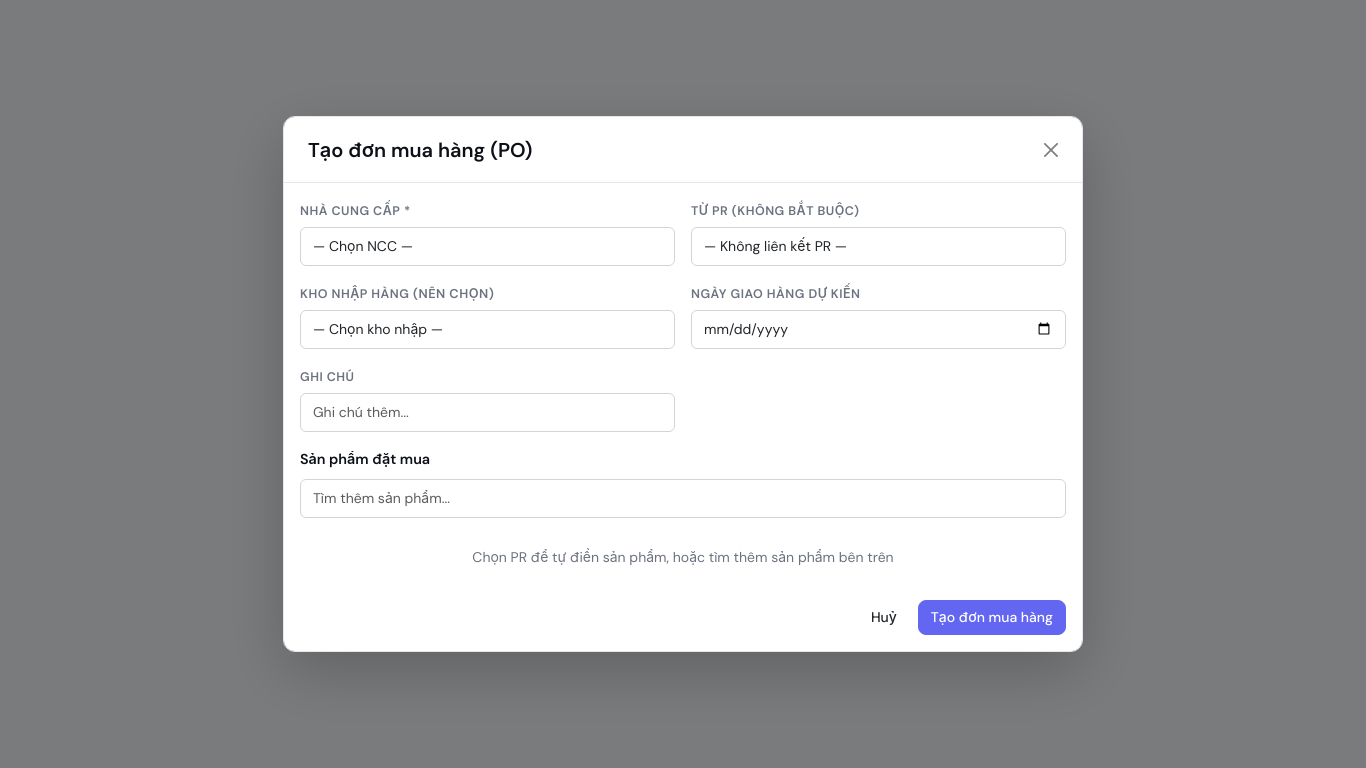
Test case: POFormModal Component › loads PR items when PR is selected
Select "PR-001 — Nhập hàng" in the dropdown labelled "Từ PR (không bắt buộc)" at x=878, y=246, box [691,227,1066,266]
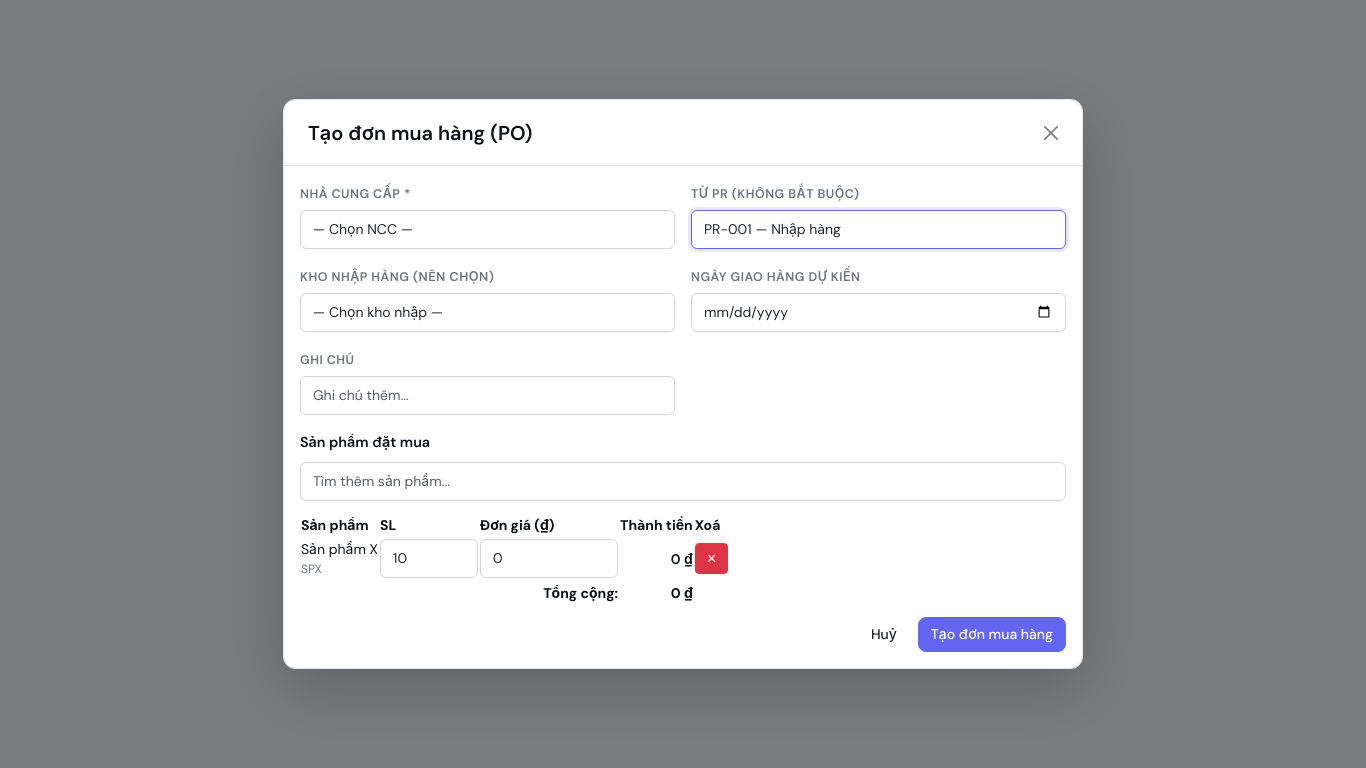
Now the text "Sản phẩm X" is shown, box [301,540,378,558]
Now the 1st number field holds "10", box [380,539,478,578]
